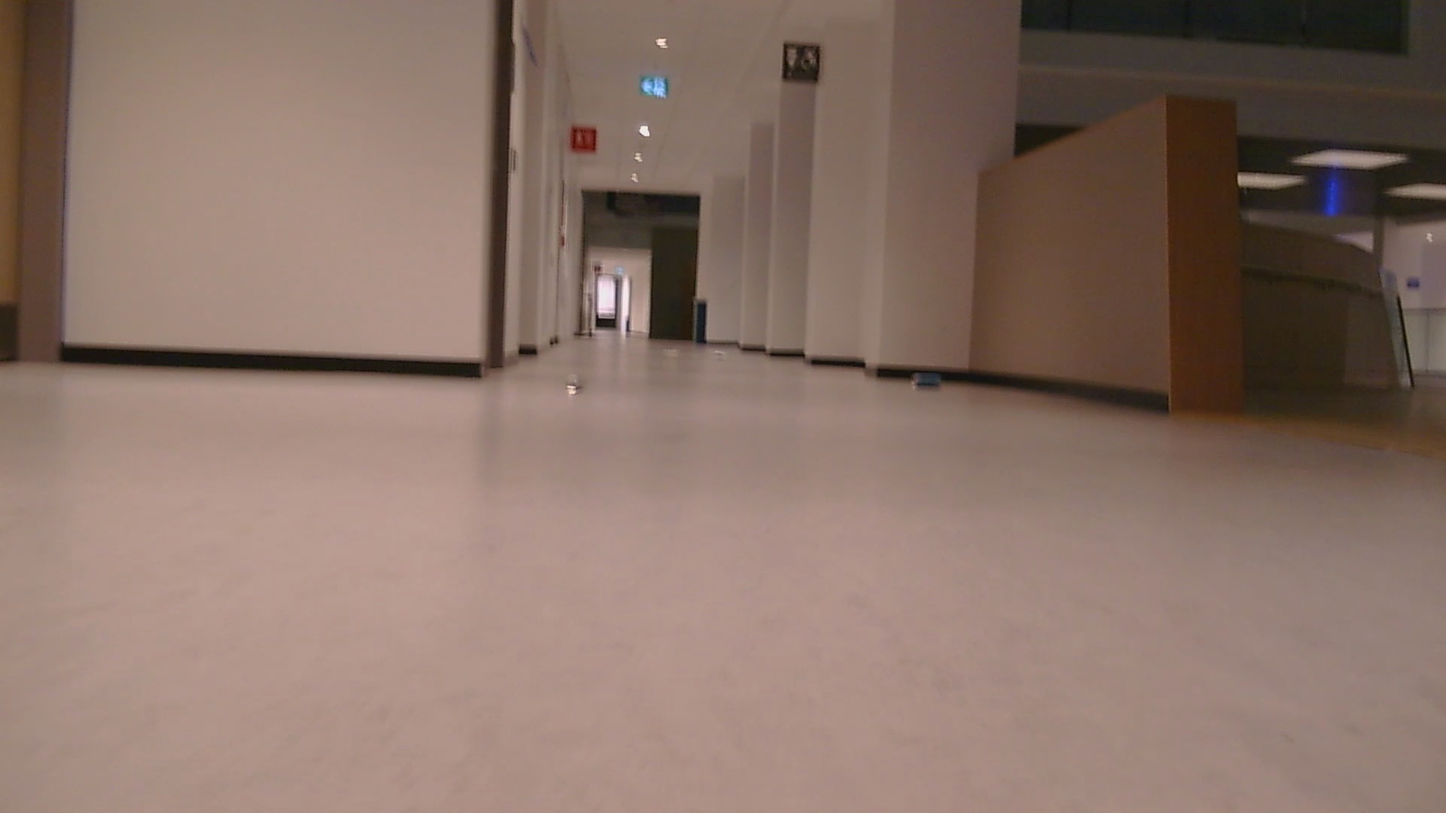carton: (902, 367, 947, 395), (563, 369, 599, 397)
